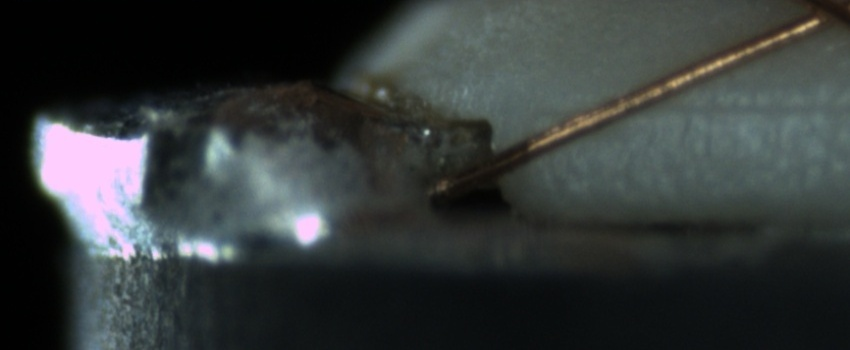CL: (772, 0, 849, 41)
DL: (609, 72, 846, 138)
